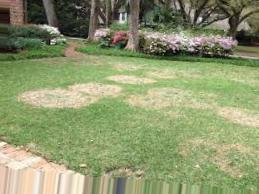patch: (47, 89, 76, 101), (84, 83, 107, 97), (178, 91, 194, 106), (118, 75, 135, 87), (236, 109, 255, 118), (32, 92, 43, 104), (222, 152, 230, 167), (140, 94, 150, 105), (159, 97, 171, 102)
